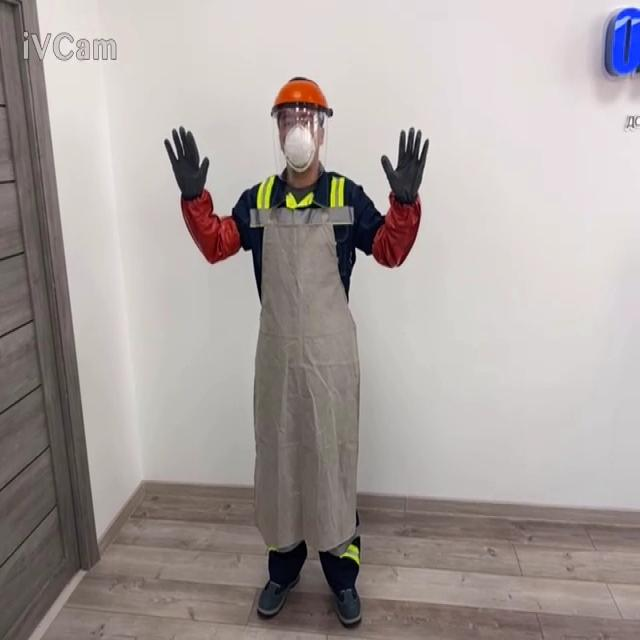Gloves: (380, 125, 429, 204), (163, 125, 209, 200), (603, 7, 639, 77)
Mask: (282, 122, 317, 174)
Protective apron: (249, 201, 361, 556)
Safety Shoes: (256, 572, 300, 616), (333, 584, 361, 624)
Sleeve: (180, 187, 241, 264), (371, 191, 421, 268)
